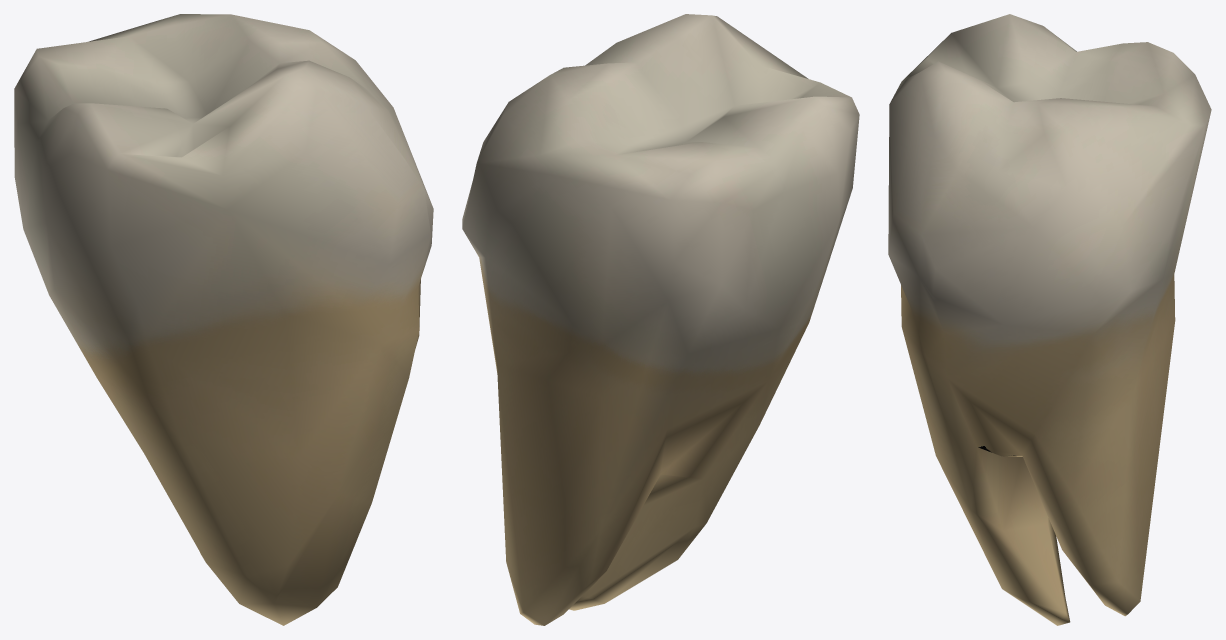
3 views of the same model, side by side, from view 1: azimuth 30°, elevation 25°; view 2: azimuth 150°, elevation 25°; view 3: azimuth 270°, elevation 25° (orthographic). The views are drawn at different scales.
Parts seen in each view (by area): view 1: Object_2; view 2: Object_2; view 3: Object_2.
Part boxes in pixels (x1,y1,x2,y2): Object_2: [14, 14, 433, 625]; Object_2: [462, 14, 859, 625]; Object_2: [888, 14, 1211, 625].
Bounding box in the file's own units: 0.9522 × 1.53 × 0.8445.
1 material, 1 textured.
